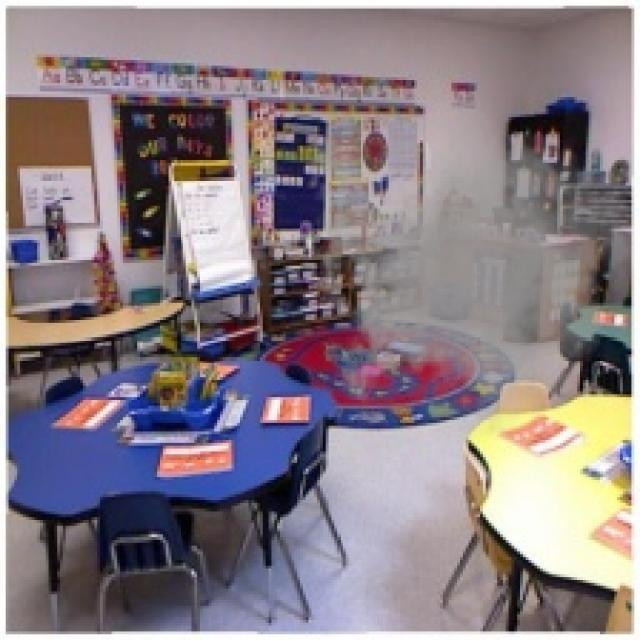Smoke: (297, 80, 637, 460)
